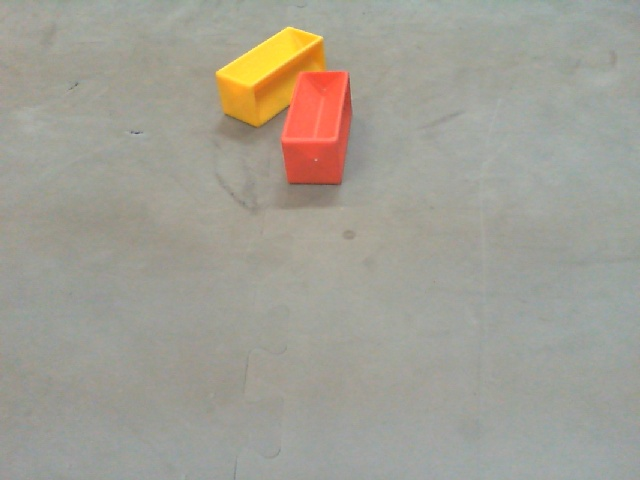RedSample: (281, 70, 353, 186)
YellowSample: (213, 26, 326, 130)
